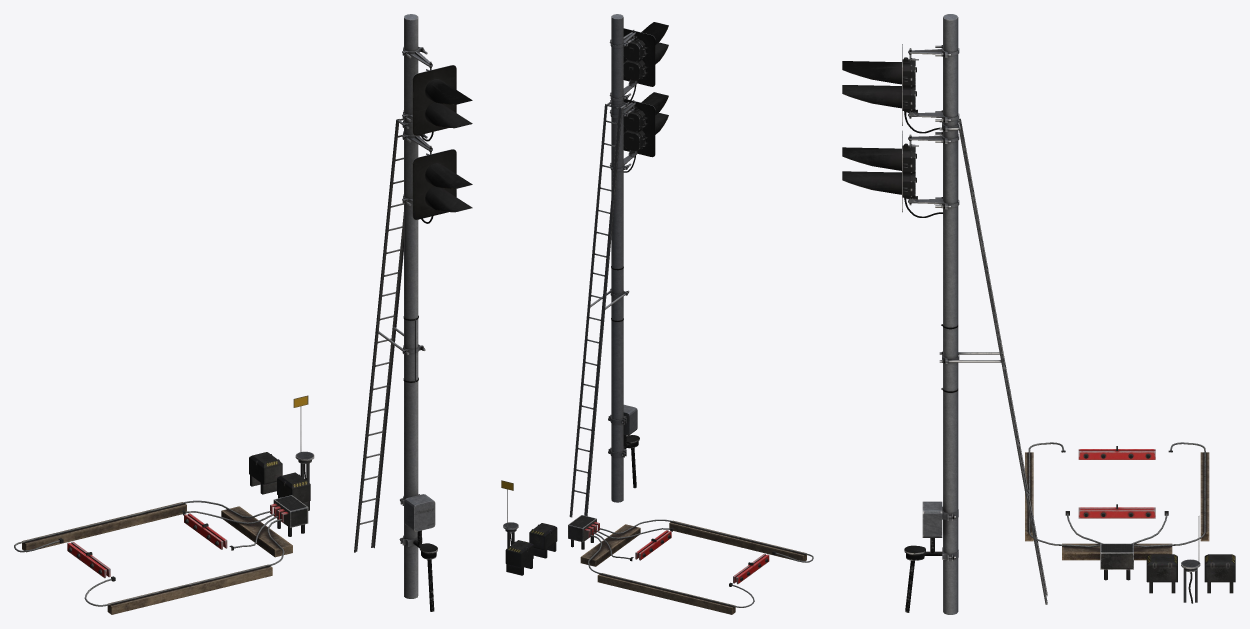
Rendered from RM_sig_P_MM1_2+2_exit.gltf.
3 renders of one model, left to right at view 1: azimuth 30°, elevation 25°; view 2: azimuth 150°, elevation 25°; view 3: azimuth 270°, elevation 25°, orthographic. The views are drawn at different scales.
Visible parts, largest first — view 1: Светофор выходной, Изостык; view 2: Светофор выходной, Изостык; view 3: Светофор выходной, Изостык.
Boxes of the visible parts, x1,y1,x2,y2 form: Светофор выходной: [354, 14, 472, 611]; Изостык: [14, 395, 314, 614]; Светофор выходной: [569, 14, 668, 517]; Изостык: [501, 480, 813, 614]; Светофор выходной: [842, 14, 1047, 614]; Изостык: [1025, 442, 1235, 603].
Size of the model in its own units: 4.1 by 7.57 by 4.54.
3 materials, 2 textured.
